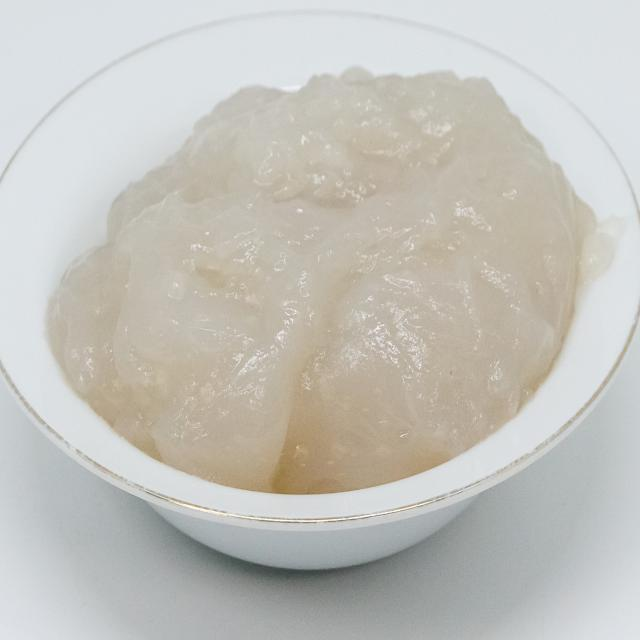Papeda: (41, 43, 614, 510)
